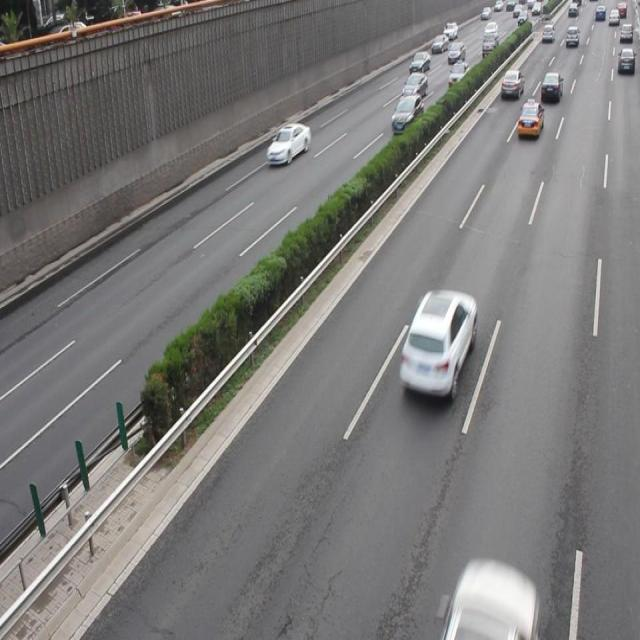car: (399, 287, 475, 400), (443, 560, 532, 640), (266, 122, 310, 165), (390, 95, 423, 134), (516, 100, 543, 138)
